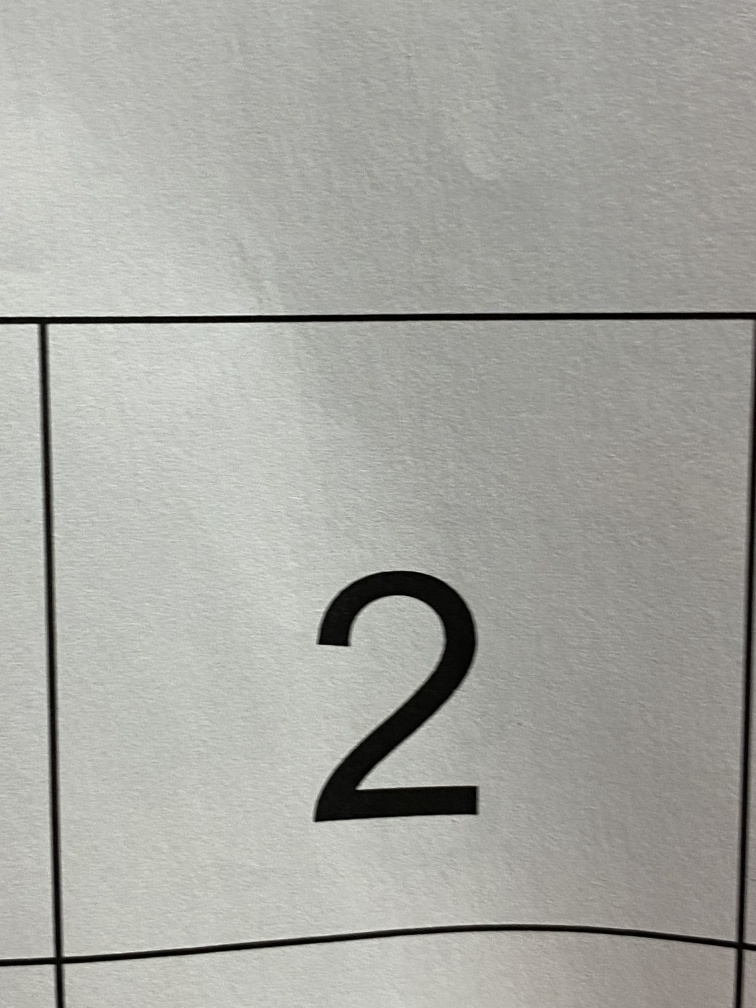two: (275, 515, 541, 894)
